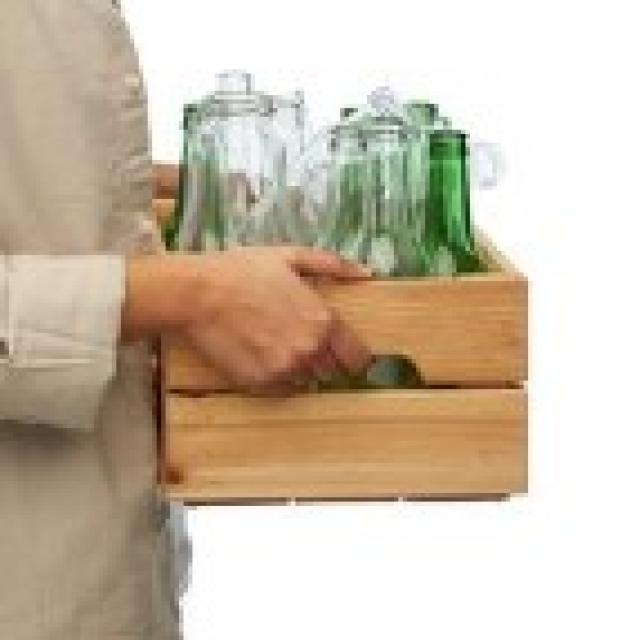electronic: (174, 68, 476, 275)
